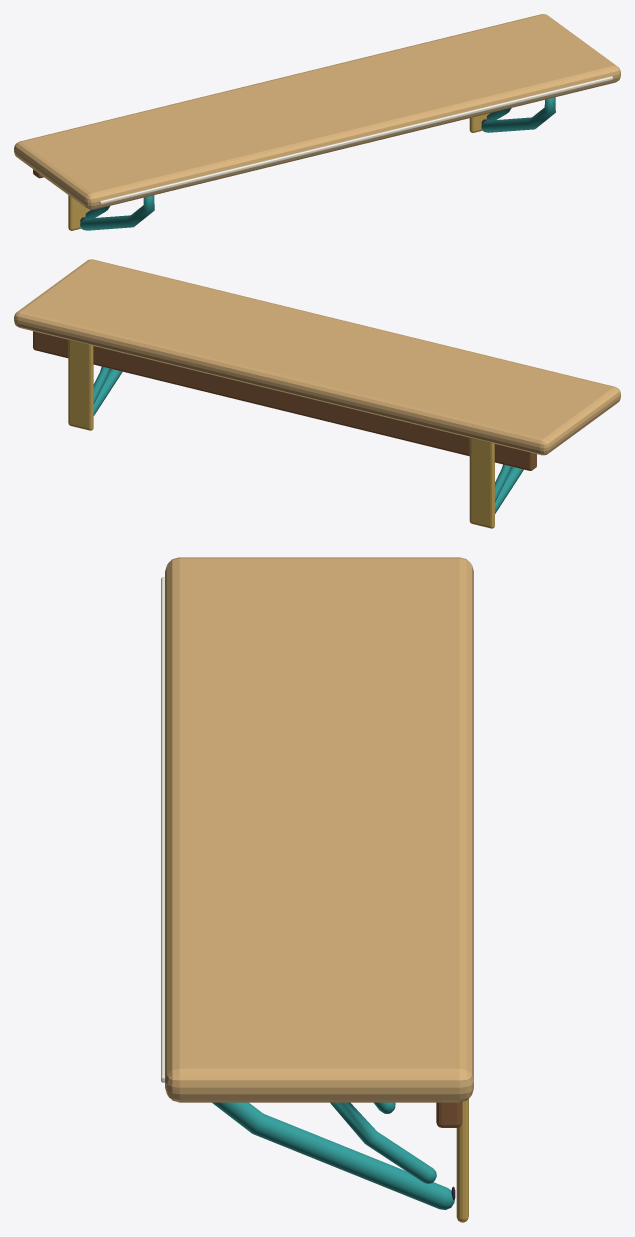
The model's file is botanical_shelf_small.glb.
3 views of the same model, one above another, from view 1: azimuth 30°, elevation 25°; view 2: azimuth 150°, elevation 25°; view 3: azimuth 270°, elevation 25° (orthographic). The views are drawn at different scales.
Visible parts, largest first — view 1: Warm_wood_shelf, Cream_front_inlay, Attached_bracket, Attached_bracket.001, Brass_wall_plate; view 2: Warm_wood_shelf, Rear_wall_cleat, Brass_wall_plate, Brass_wall_plate.001, Attached_bracket.001, Attached_bracket; view 3: Warm_wood_shelf, Attached_bracket.001, Botanical_scroll.001, Cream_front_inlay, Brass_wall_plate.001.
Part boxes in pixels (bbox=[...]): Warm_wood_shelf: bbox=[14, 14, 620, 209]; Cream_front_inlay: bbox=[99, 76, 612, 204]; Attached_bracket: bbox=[80, 195, 154, 230]; Attached_bracket.001: bbox=[481, 97, 555, 132]; Brass_wall_plate: bbox=[68, 195, 90, 230]; Warm_wood_shelf: bbox=[14, 259, 620, 455]; Rear_wall_cleat: bbox=[33, 331, 536, 470]; Brass_wall_plate: bbox=[469, 437, 494, 528]; Brass_wall_plate.001: bbox=[68, 339, 93, 430]; Attached_bracket.001: bbox=[93, 368, 122, 415]; Attached_bracket: bbox=[495, 466, 523, 513]; Warm_wood_shelf: bbox=[165, 557, 473, 1102]; Attached_bracket.001: bbox=[212, 1102, 455, 1209]; Botanical_scroll.001: bbox=[330, 1102, 436, 1183]; Cream_front_inlay: bbox=[161, 577, 164, 1082]; Brass_wall_plate.001: bbox=[456, 1099, 468, 1222].
Size of the model in its own units: 1.2 by 0.218 by 0.304.
